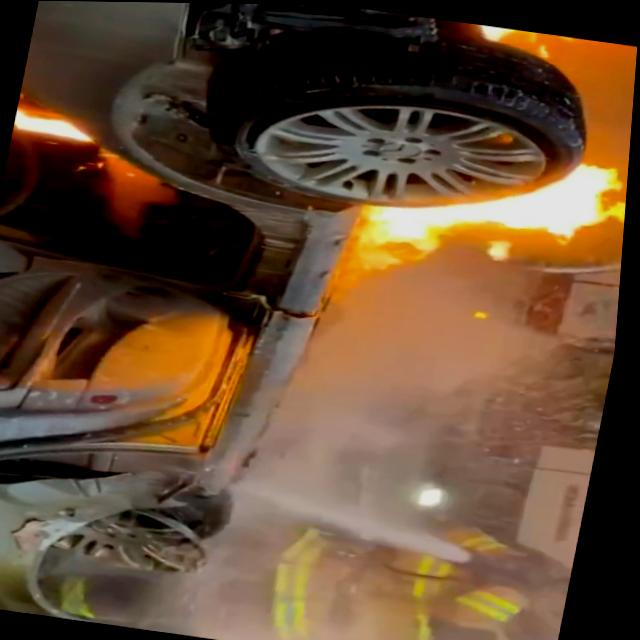fire: (333, 127, 633, 307), (461, 21, 639, 75)
